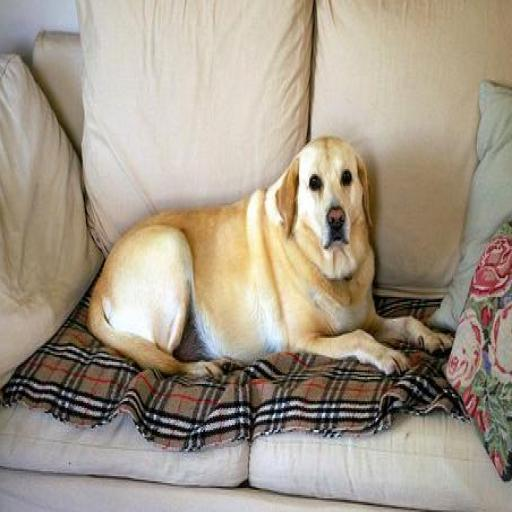dog_face: (286, 128, 372, 247)
